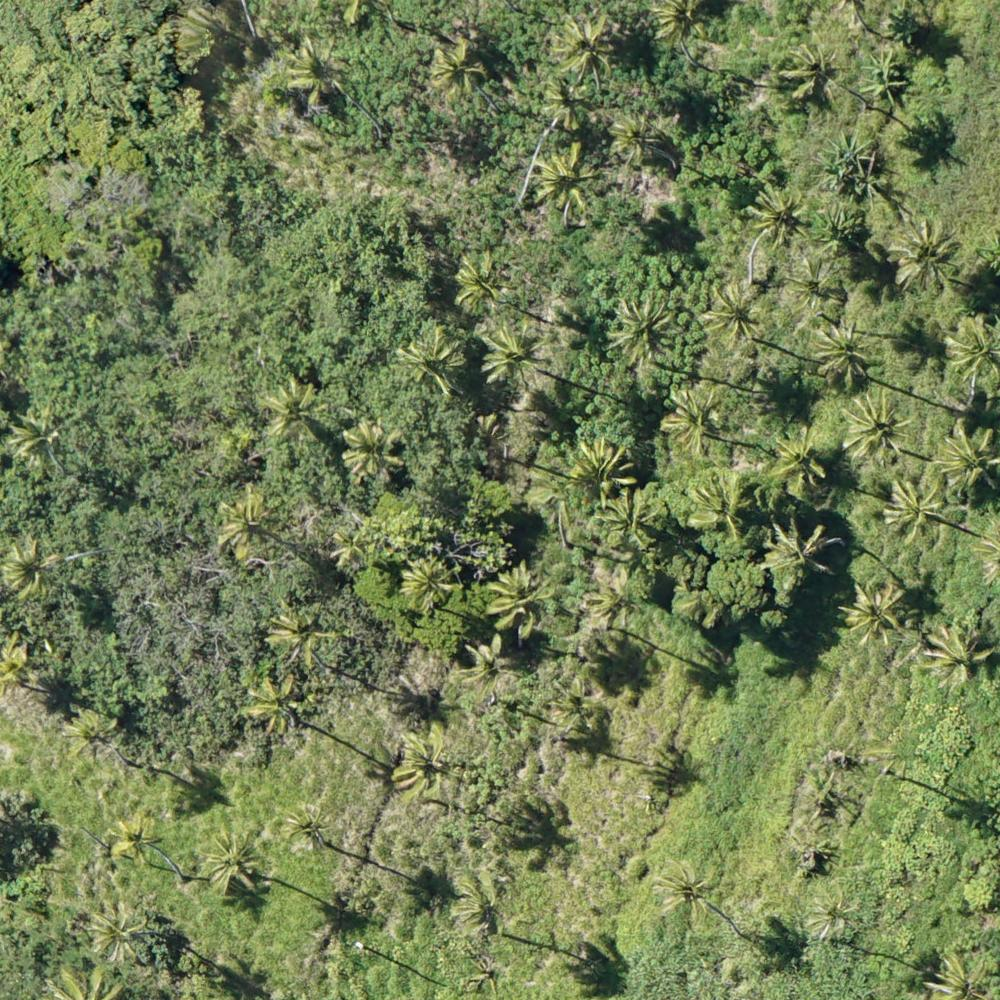Palm: (838, 392, 916, 468), (919, 623, 998, 693), (891, 215, 963, 290), (484, 564, 555, 639), (652, 851, 720, 927), (605, 295, 676, 366), (685, 472, 752, 547), (935, 418, 999, 496), (428, 30, 493, 104), (702, 283, 772, 351), (397, 326, 468, 392), (768, 425, 831, 499), (483, 319, 546, 390), (845, 581, 911, 648), (270, 600, 336, 667), (764, 519, 833, 583), (940, 309, 1000, 382), (750, 183, 814, 251), (531, 145, 593, 215), (551, 10, 614, 78), (88, 898, 156, 961), (811, 319, 874, 386), (8, 408, 69, 477), (203, 831, 265, 896), (663, 384, 724, 450), (264, 378, 328, 439), (391, 735, 451, 800), (581, 573, 650, 628), (780, 256, 840, 319), (881, 481, 940, 545), (596, 494, 662, 551), (785, 39, 840, 105), (807, 882, 867, 941), (214, 491, 273, 551), (346, 421, 404, 482), (568, 441, 631, 497), (393, 557, 455, 612), (63, 707, 120, 766), (606, 105, 666, 161), (249, 676, 309, 729), (2, 541, 57, 597), (106, 813, 161, 869), (541, 676, 595, 732), (458, 249, 507, 306), (280, 800, 326, 852), (537, 76, 584, 126)
